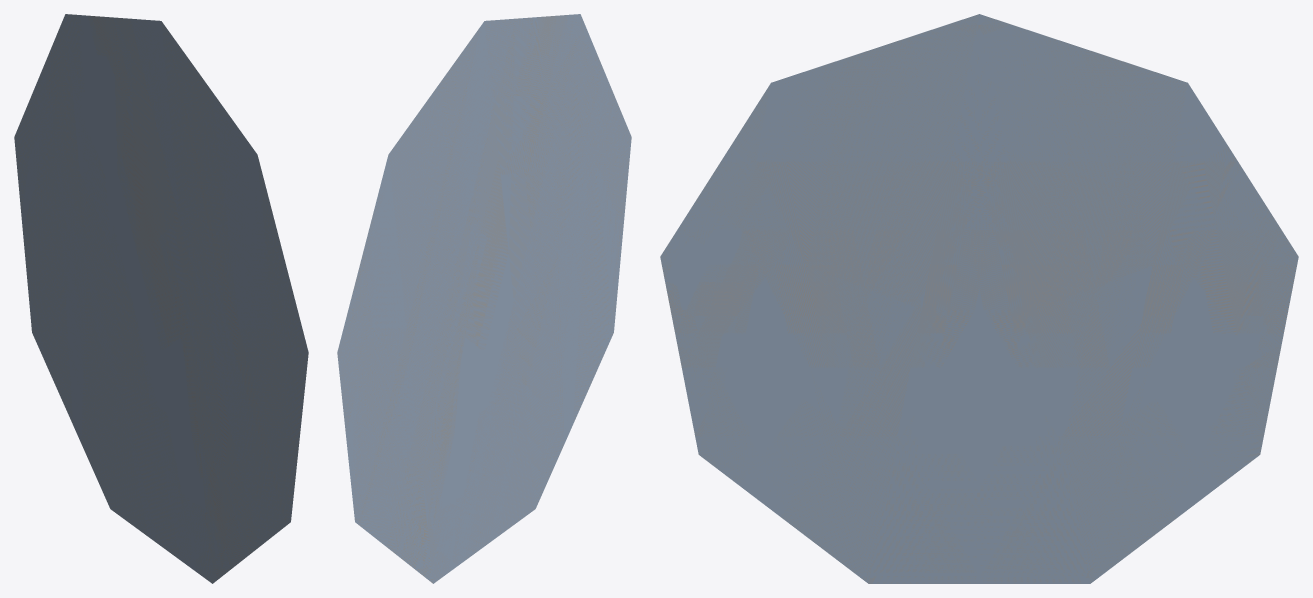
The model's file is original-203.obj.
The picture shows the model from 3 angles, left to right: view 1: azimuth 30°, elevation 25°; view 2: azimuth 150°, elevation 25°; view 3: azimuth 270°, elevation 25°; orthographic projection. The views are drawn at different scales.
Parts seen in each view (by area): view 1: #ID1042; view 2: #ID1042; view 3: #ID1042.
Part boxes in pixels (x1=…): #ID1042: x1=14, y1=14, x2=308, y2=583; #ID1042: x1=337, y1=14, x2=631, y2=583; #ID1042: x1=660, y1=14, x2=1298, y2=583.
Bounding box in the file's own units: 0 × 0.0384 × 0.039.
